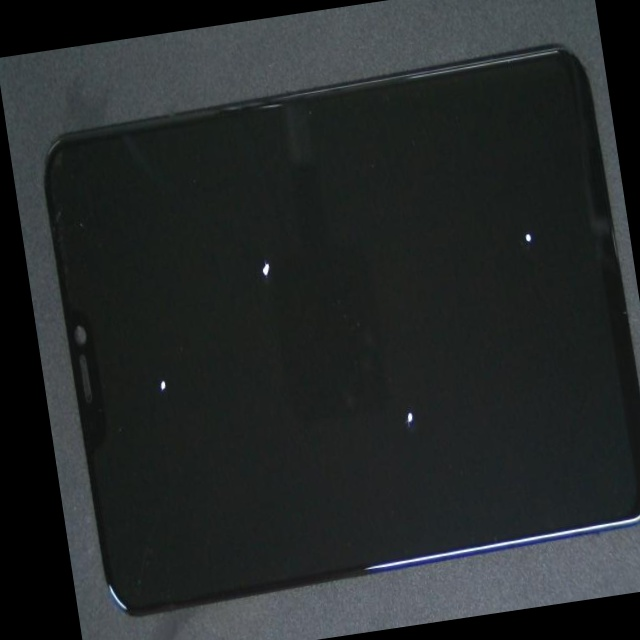stain: (189, 131, 607, 639), (260, 44, 640, 387), (128, 67, 386, 376), (72, 163, 228, 552)
